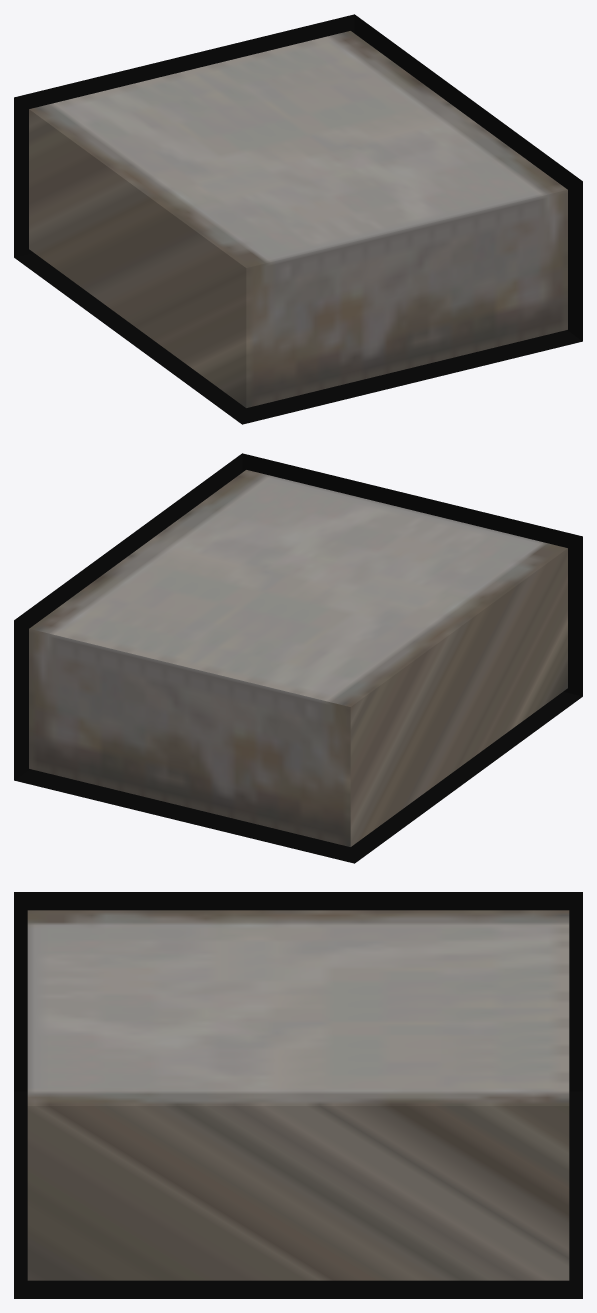
File: Building_AncientConcreteBarrier_Things_Building_Ruins_AncientConcreteBarrier_AncientConcreteBarrierB.glb
3 views of the same model, one above another, from view 1: azimuth 30°, elevation 25°; view 2: azimuth 150°, elevation 25°; view 3: azimuth 270°, elevation 25° (orthographic). The views are drawn at different scales.
Parts seen in each view (by area): view 1: Body, Outline; view 2: Body, Outline; view 3: Body, Outline.
Boxes of the visible parts, box(x1,y1,x2,y2) form: Body: box(29, 31, 567, 407); Outline: box(14, 14, 582, 424); Body: box(29, 470, 567, 846); Outline: box(14, 453, 582, 863); Body: box(27, 910, 569, 1280); Outline: box(14, 892, 582, 1298).
Bounding box in the file's own units: 0.9604 × 0.4313 × 1.11.
2 materials, 1 textured.
